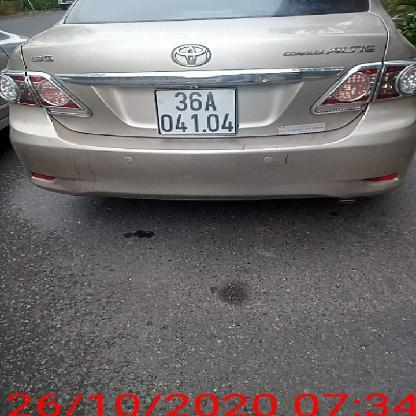biensoxe: (152, 87, 243, 138)
